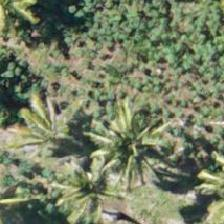coconut_tree: (74, 103, 164, 193), (12, 79, 102, 169), (37, 138, 127, 223)
